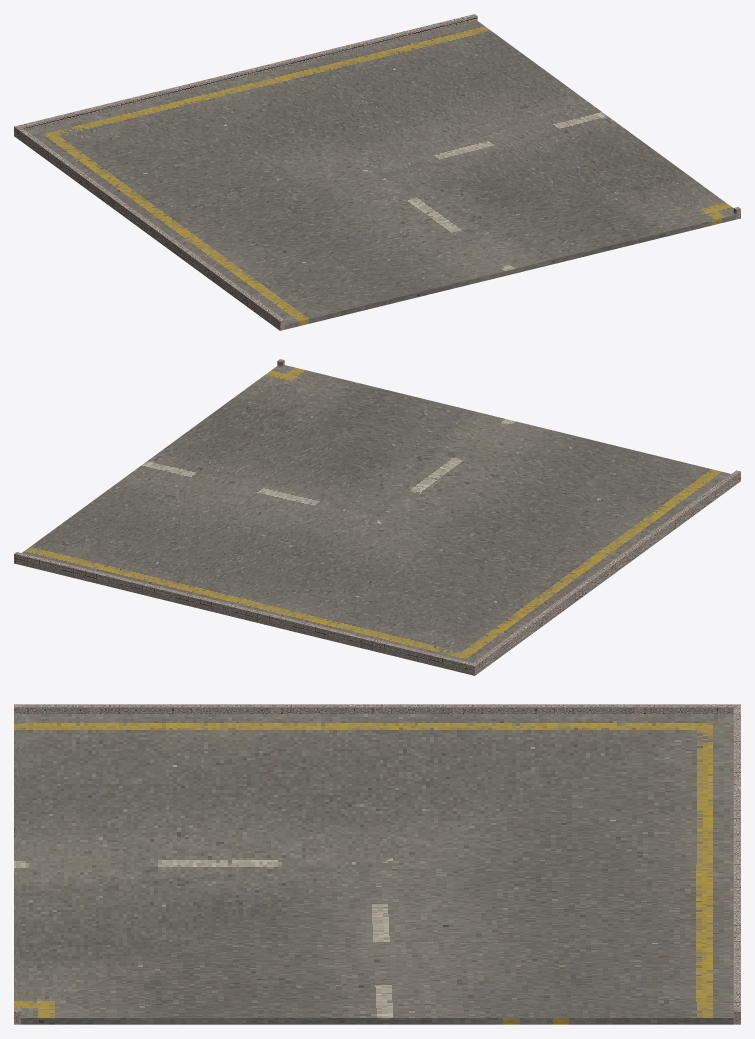
File: road_1_corner_no_sides.glb
3 renders of one model, top to bottom at view 1: azimuth 30°, elevation 25°; view 2: azimuth 150°, elevation 25°; view 3: azimuth 270°, elevation 25°, orthographic. The views are drawn at different scales.
Parts seen in each view (by area): view 1: road_1_corner_no_sides; view 2: road_1_corner_no_sides; view 3: road_1_corner_no_sides.
Boxes of the visible parts, box(x1,y1,x2,y2) form: road_1_corner_no_sides: box(14, 14, 740, 330); road_1_corner_no_sides: box(14, 359, 740, 675); road_1_corner_no_sides: box(14, 704, 740, 1024).
Bounding box in the file's own units: 16 × 0.32 × 16.
2 materials, 2 textured.
